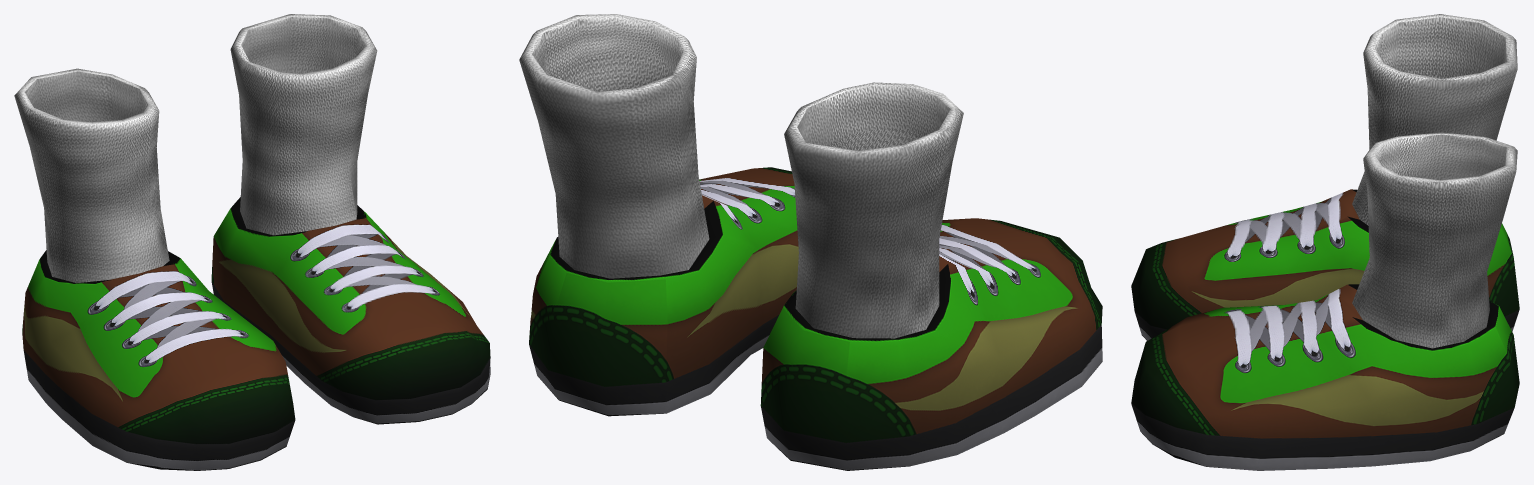
File: TKFeetB.fbx
3 renders of one model, left to right at view 1: azimuth 30°, elevation 25°; view 2: azimuth 150°, elevation 25°; view 3: azimuth 270°, elevation 25°, orthographic. The views are drawn at different scales.
Visible parts, largest first — view 1: TKFeetB; view 2: TKFeetB; view 3: TKFeetB.
Part boxes in pixels (bbox=[...]): TKFeetB: bbox=[14, 14, 490, 470]; TKFeetB: bbox=[519, 14, 1102, 470]; TKFeetB: bbox=[1131, 14, 1519, 470].
Bounding box in the file's own units: 15.5 × 10.4 × 13.23.
